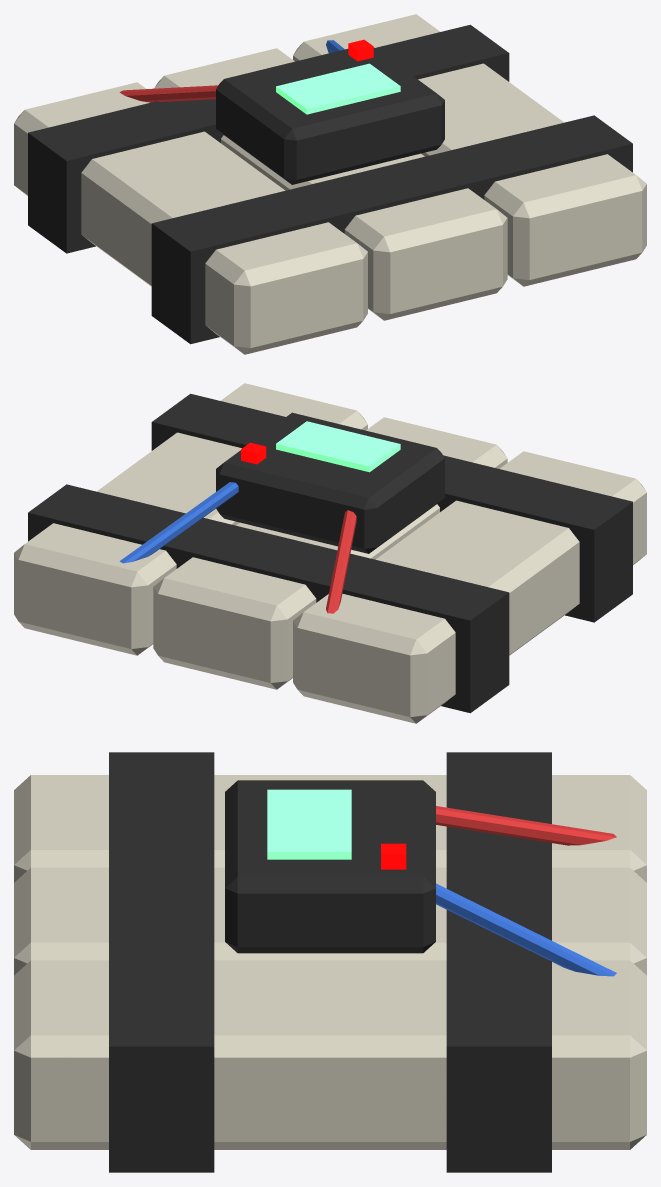
3 renders of one model, top to bottom at view 1: azimuth 30°, elevation 25°; view 2: azimuth 150°, elevation 25°; view 3: azimuth 270°, elevation 25°, orthographic. The views are drawn at different scales.
Visible parts, largest first — view 1: c4_mesh; view 2: c4_mesh; view 3: c4_mesh.
Boxes of the visible parts, x1,y1,x2,y2 form: c4_mesh: [14, 14, 646, 354]; c4_mesh: [14, 383, 646, 723]; c4_mesh: [14, 752, 646, 1172].
Bounding box in the file's own units: 0.165 × 0.0555 × 0.15.
